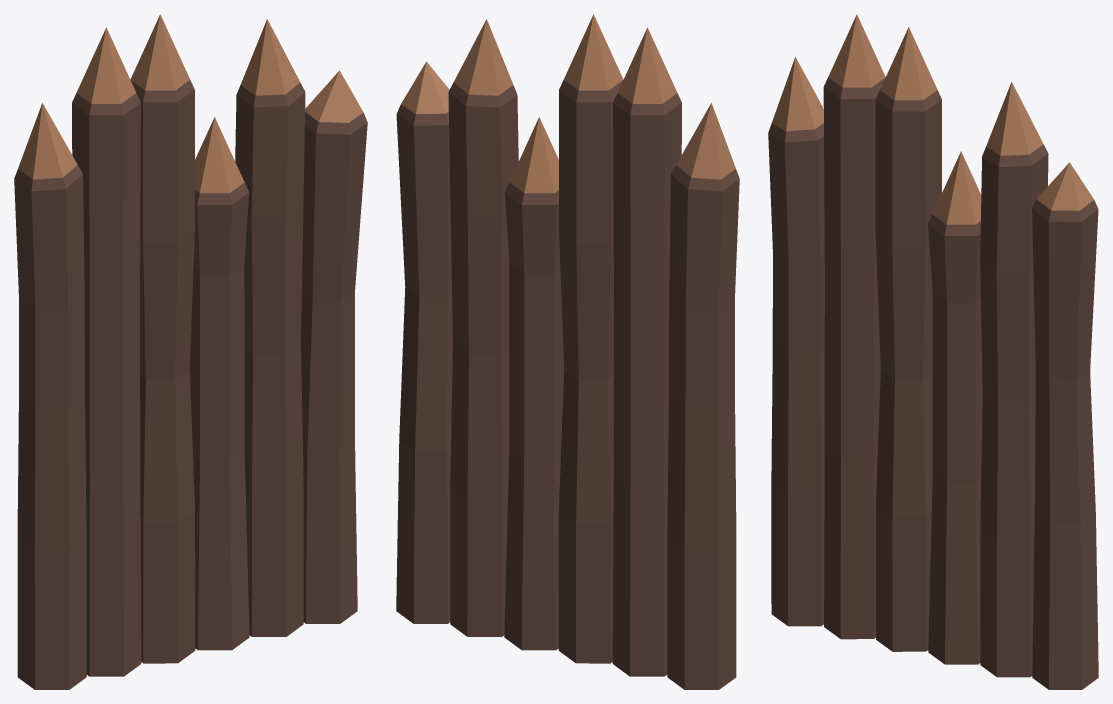
The model's file is TrunkFence_02.fbx.
3 renders of one model, left to right at view 1: azimuth 30°, elevation 25°; view 2: azimuth 150°, elevation 25°; view 3: azimuth 330°, elevation 25°, orthographic. The views are drawn at different scales.
Parts seen in each view (by area): view 1: TrunkFence_02; view 2: TrunkFence_02; view 3: TrunkFence_02.
Part boxes in pixels (left/top/right/bottom): TrunkFence_02: left=14, top=14, right=367, bottom=689; TrunkFence_02: left=396, top=14, right=739, bottom=689; TrunkFence_02: left=768, top=14, right=1098, bottom=689.
Bounding box in the file's own units: 295 × 543 × 61.33.
